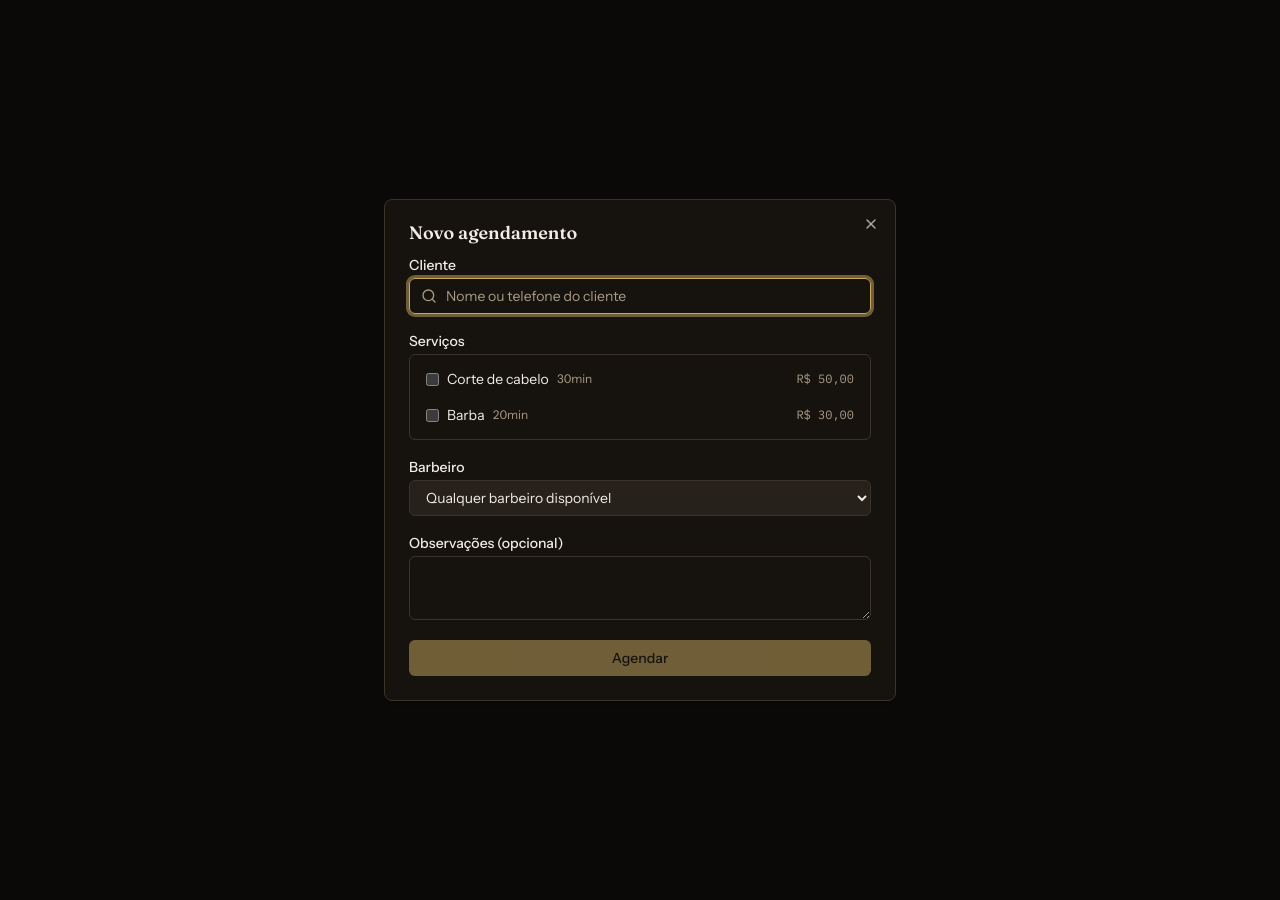
Test case: NewAppointmentDialog › trocar de barbeiro (admin) reseta o horário selecionado
This screenshot has width=1280, height=900.
Type "Maria" into the field with placeholder "Nome ou telefone do cliente" at (640, 296), box [409,278,871,314]
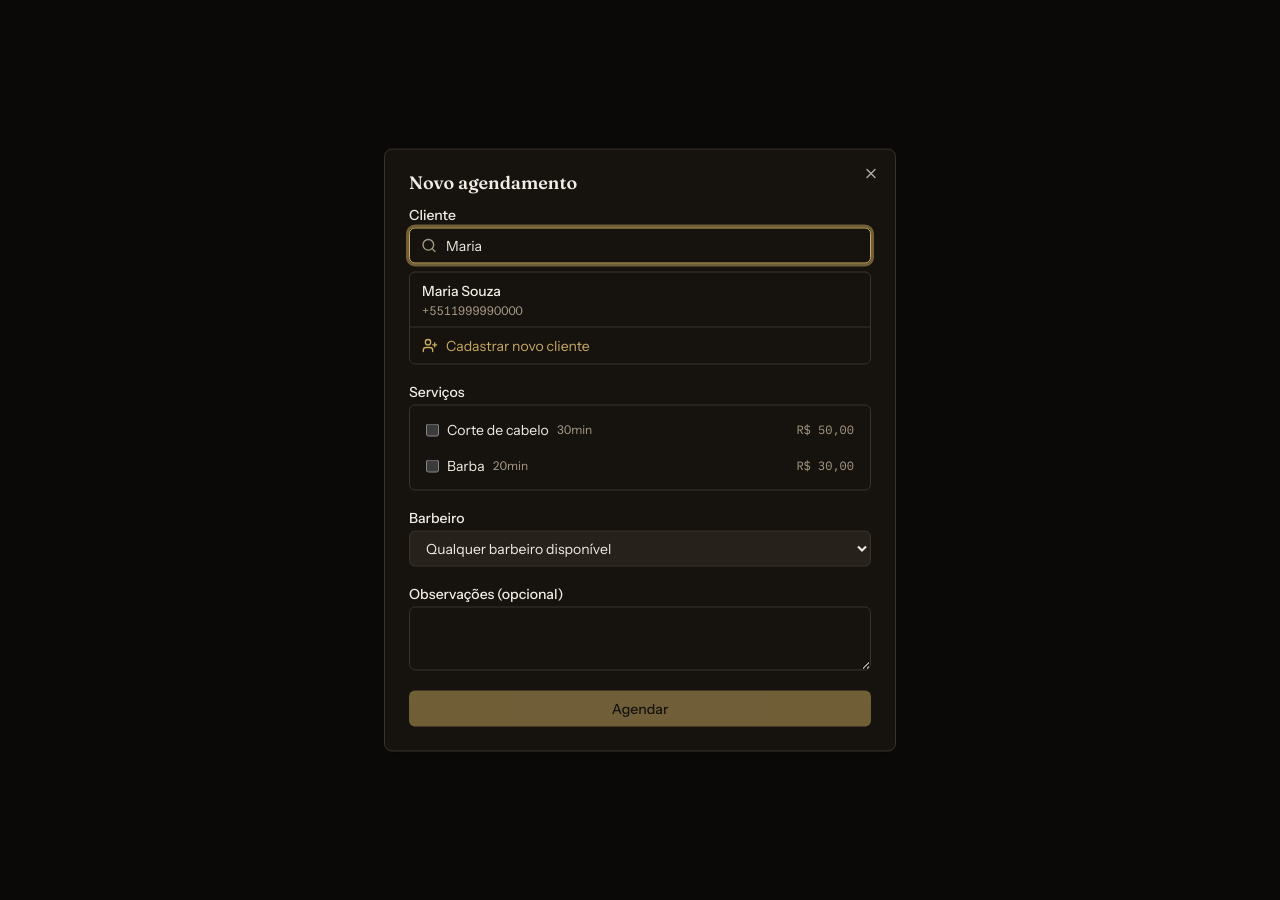
Click the text "Maria Souza" at (461, 290), box [422,280,501,300]
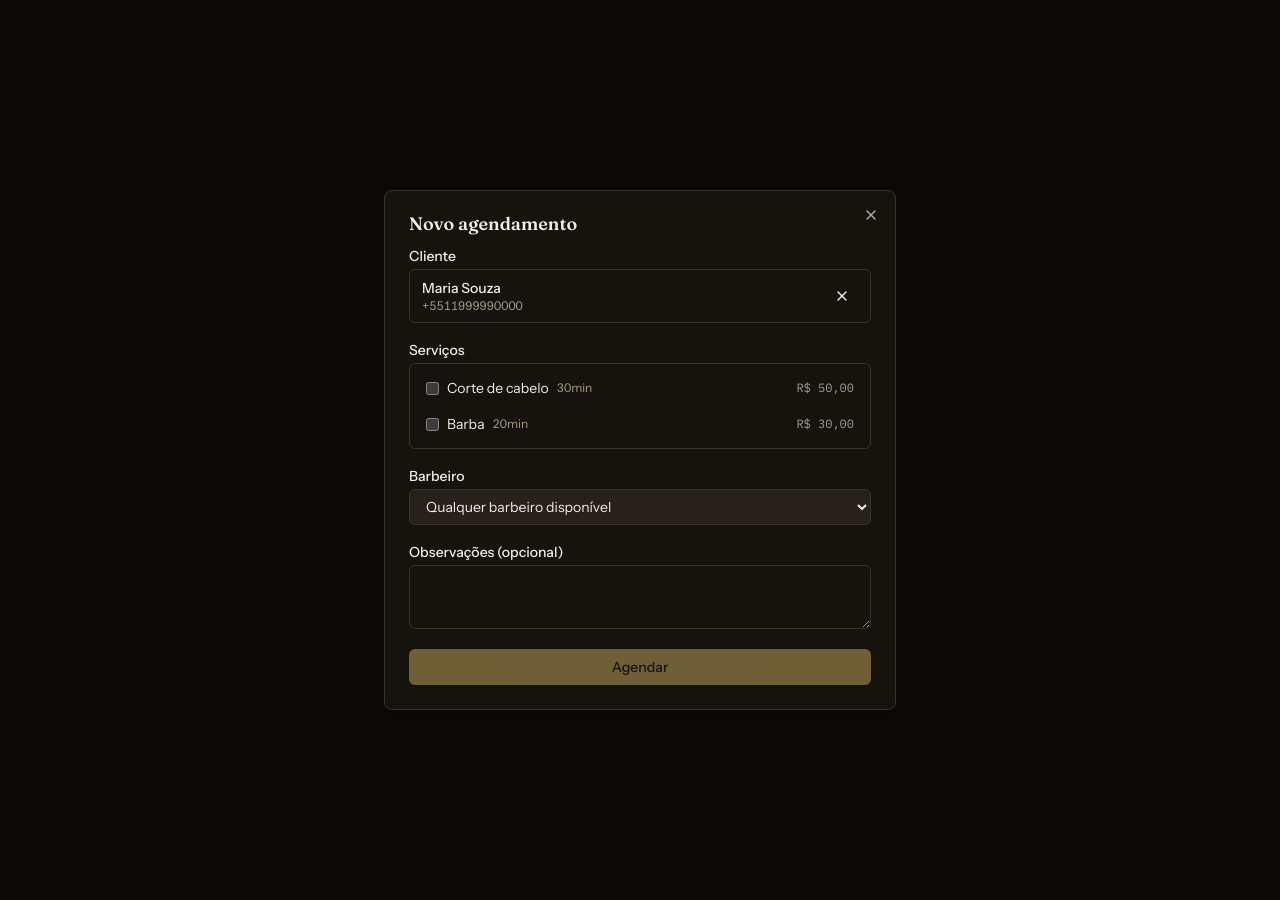
Click the checkbox labelled "Corte de cabelo 30min R$ 50,00" at (432, 388), box [426,382,439,394]
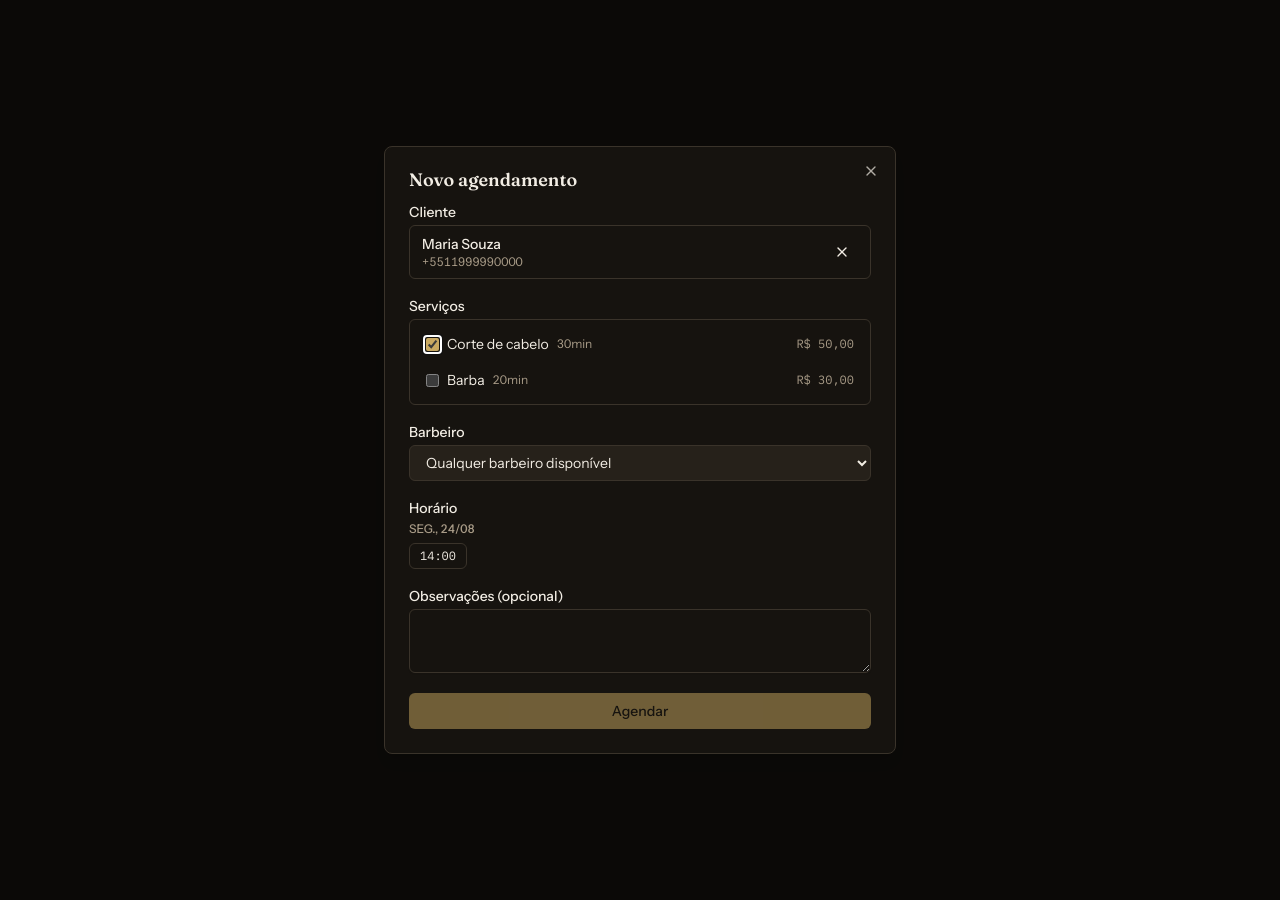
Click the button "14:00" at (438, 556), box [409,543,467,569]
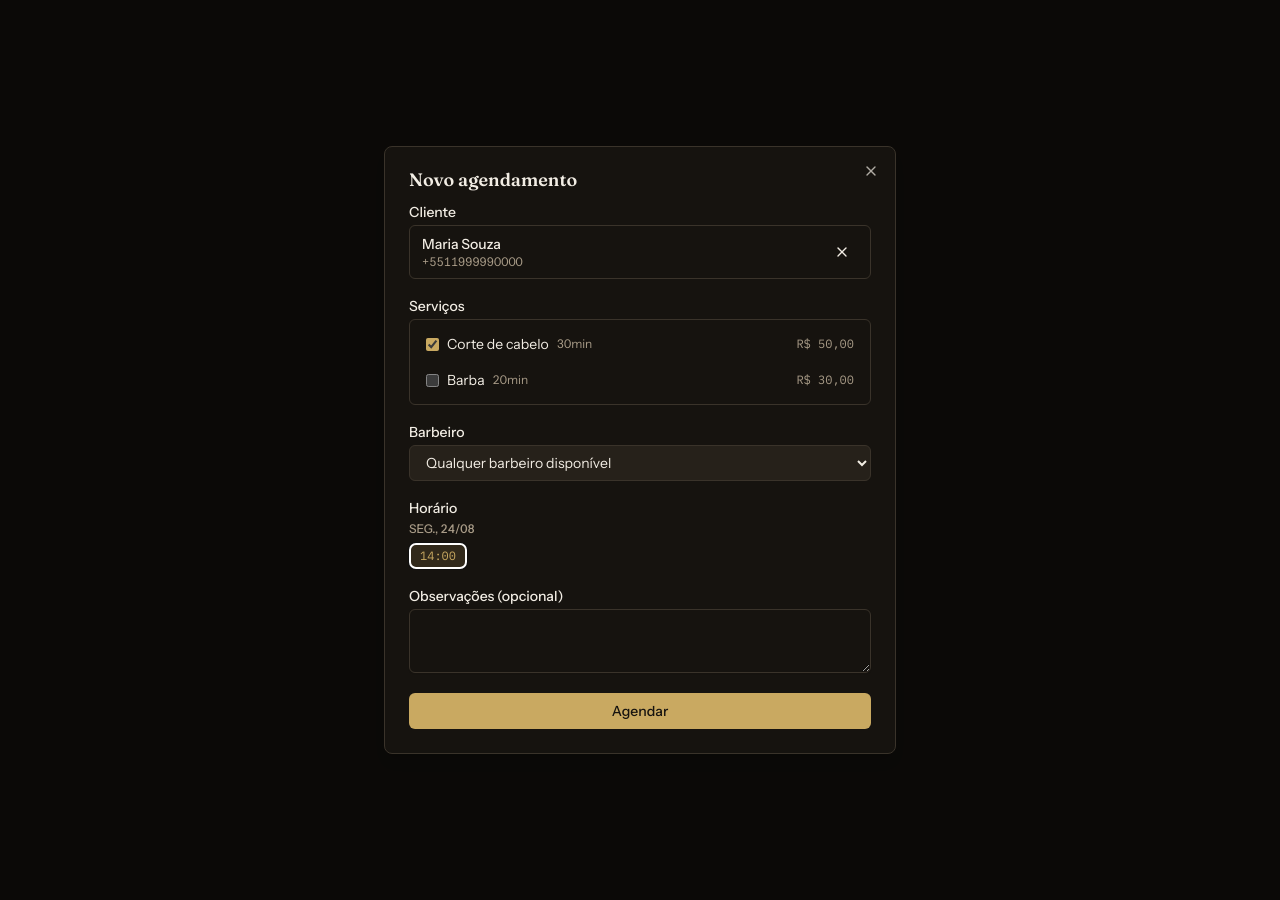
Result: the button "Agendar" is enabled at [409,693,871,729]
Select "Pedro" in the dropdown at (640, 463), box [409,445,871,481]
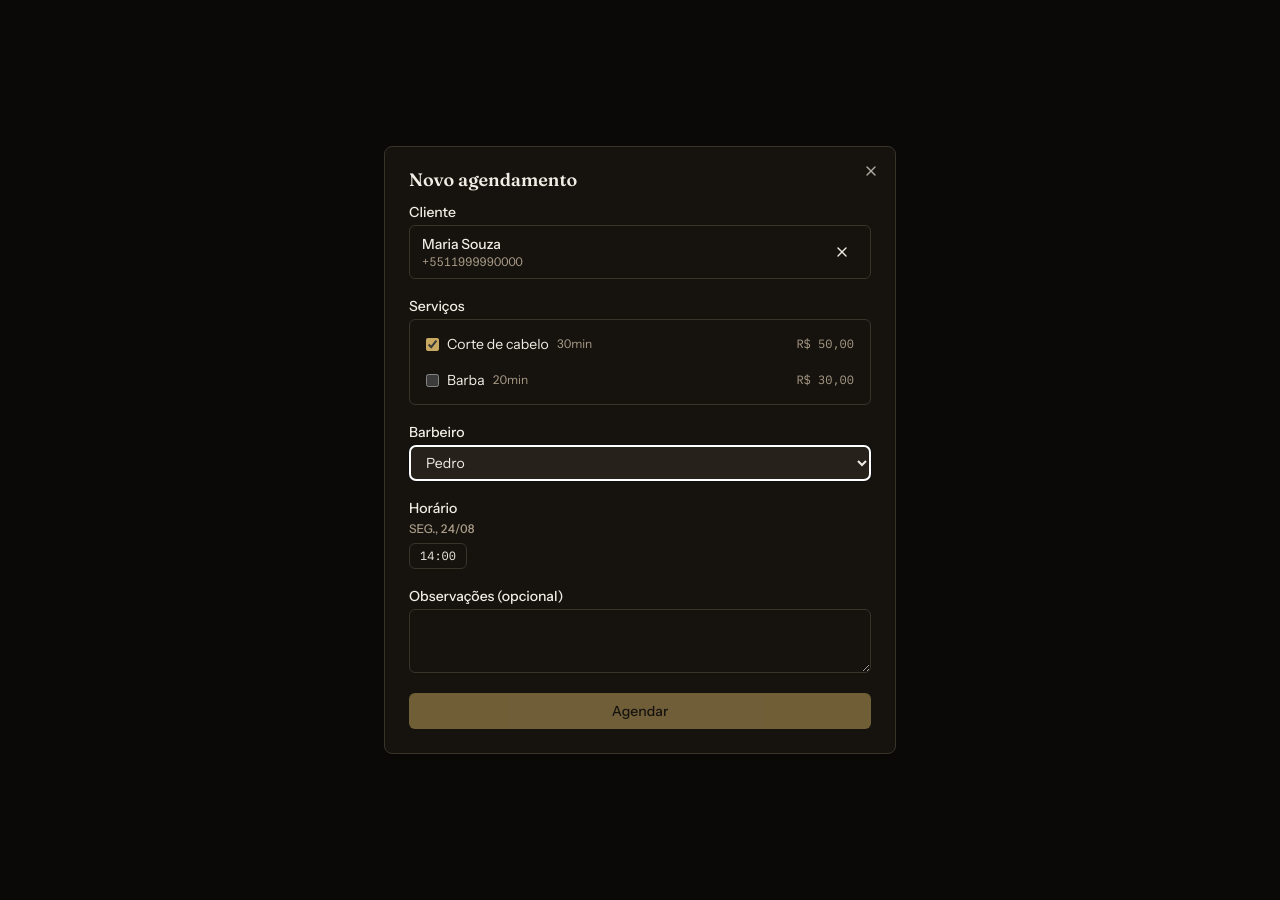
Result: the button "Agendar" is disabled at [409,693,871,729]
